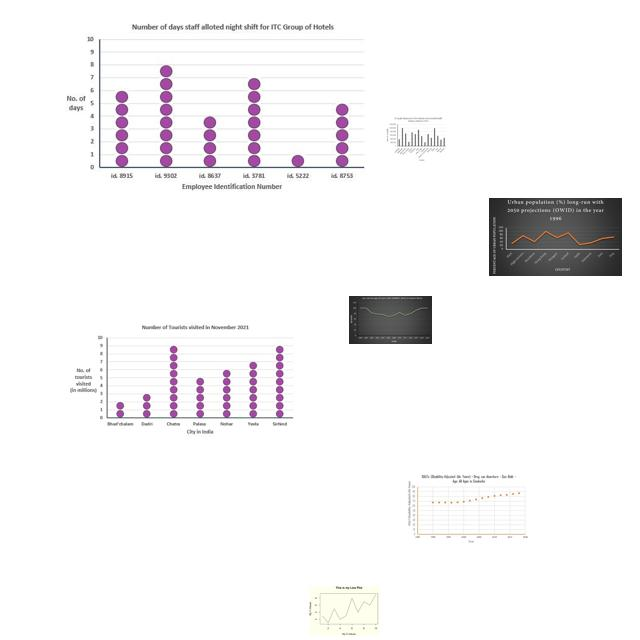Graph: (56, 19, 371, 197), (68, 322, 294, 438), (489, 198, 622, 276), (405, 473, 530, 546), (349, 296, 432, 344), (309, 586, 380, 636), (385, 117, 447, 162)
